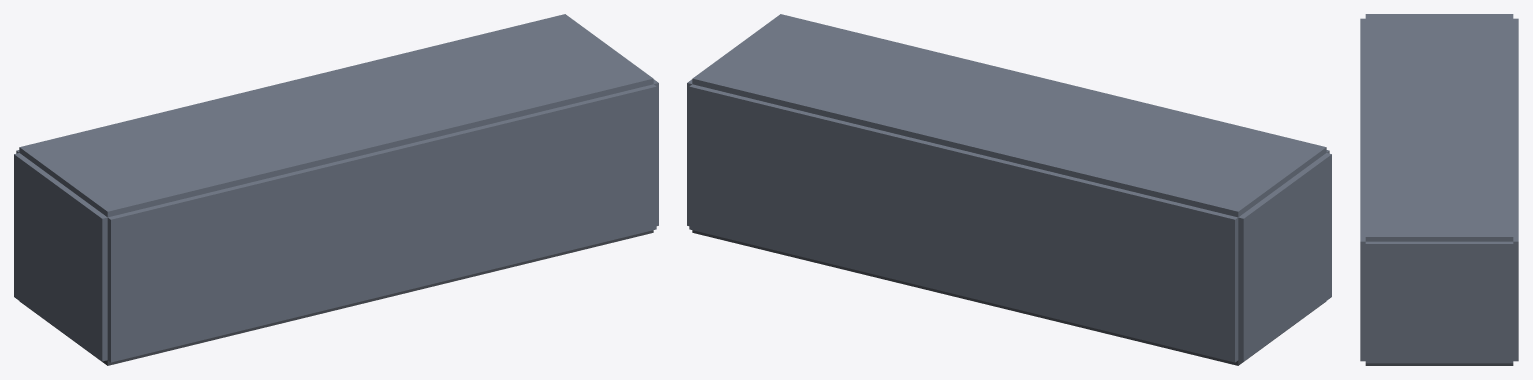
The model's file is M07ProbeInterior.gltf.
3 views of the same model, side by side, from view 1: azimuth 30°, elevation 25°; view 2: azimuth 150°, elevation 25°; view 3: azimuth 270°, elevation 25° (orthographic). The views are drawn at different scales.
Visible parts, largest first — view 1: FrontWall, Ceiling, LeftEndWall, Floor; view 2: BackWall, Ceiling, LeftEndWall, Floor; view 3: Ceiling, RightEndWall, FrontWall, BackWall, Floor.
Boxes of the visible parts, bbox=[...] form: FrontWall: bbox=[107, 84, 656, 362]; Ceiling: bbox=[19, 14, 653, 217]; LeftEndWall: bbox=[14, 153, 107, 361]; Floor: bbox=[19, 230, 653, 365]; BackWall: bbox=[689, 84, 1238, 362]; Ceiling: bbox=[692, 14, 1326, 217]; LeftEndWall: bbox=[1238, 153, 1331, 361]; Floor: bbox=[692, 230, 1326, 365]; Ceiling: bbox=[1365, 14, 1513, 241]; RightEndWall: bbox=[1365, 241, 1513, 363]; FrontWall: bbox=[1360, 18, 1365, 361]; BackWall: bbox=[1513, 18, 1518, 361]; Floor: bbox=[1365, 363, 1513, 365].
Bounding box in the file's own units: 20.4 × 5.4 × 6.
